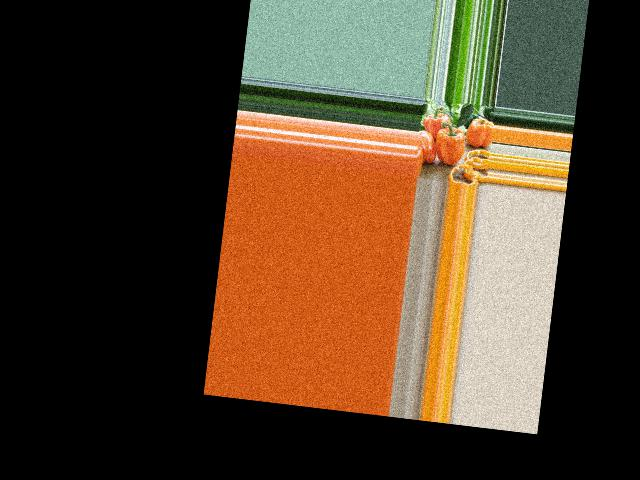bell_pepper: (415, 129, 438, 165)
